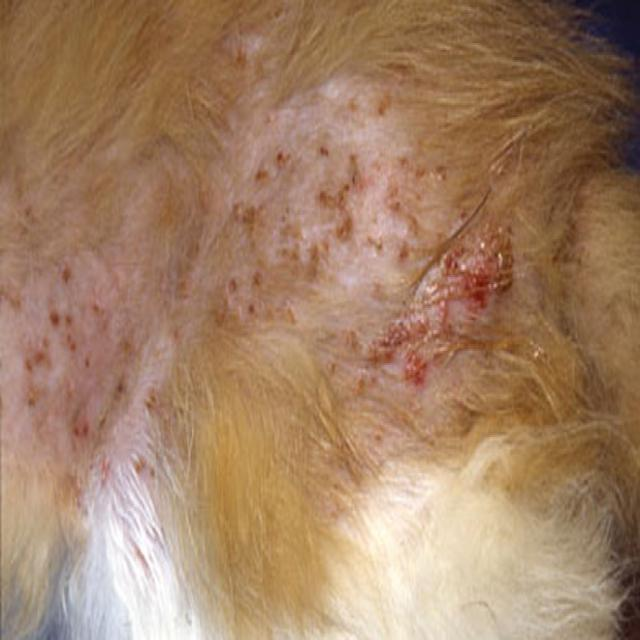di ung bo chet: (0, 37, 557, 544)
